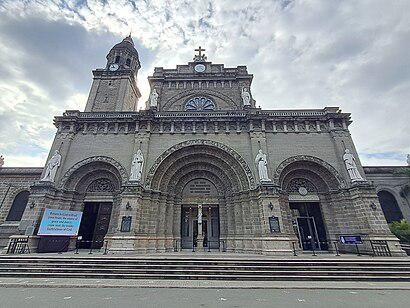manila_cathedral_church_intramuros_manila: (37, 26, 395, 256)
